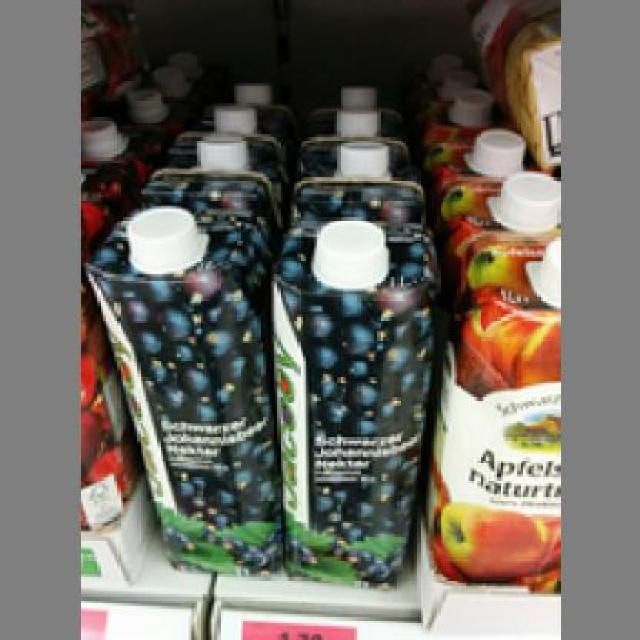Juice: (80, 192, 277, 572), (272, 208, 438, 586)
